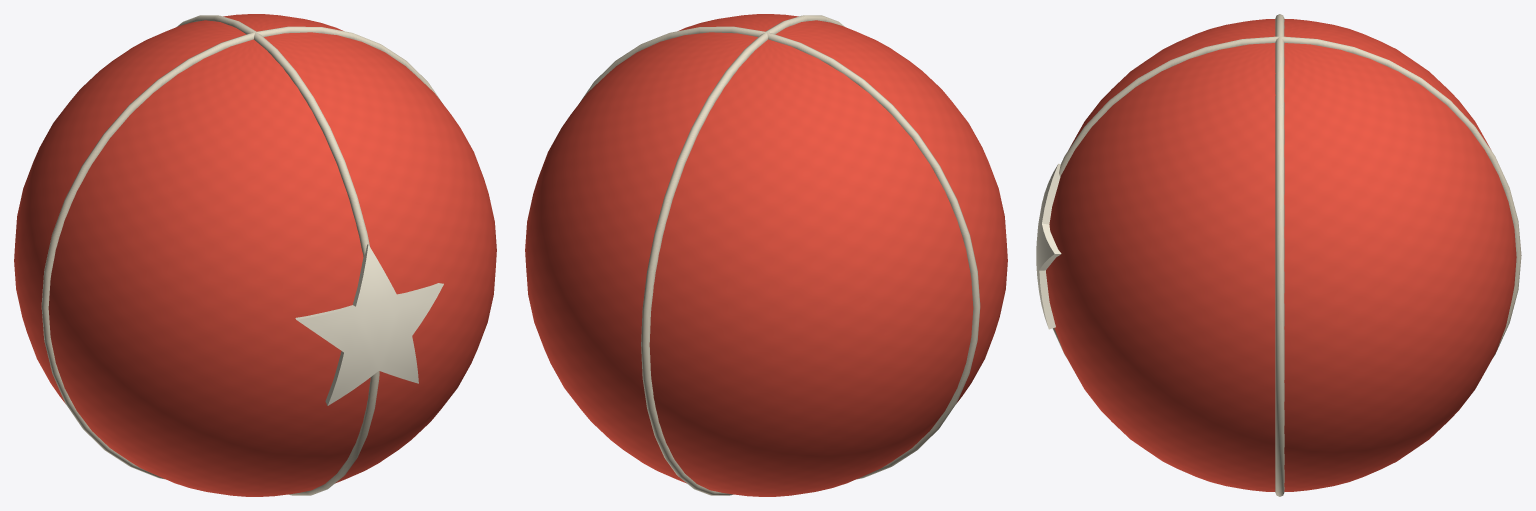
The model's file is BALL.glb.
3 views of the same model, side by side, from view 1: azimuth 30°, elevation 25°; view 2: azimuth 150°, elevation 25°; view 3: azimuth 270°, elevation 25° (orthographic). The views are drawn at different scales.
Parts seen in each view (by area): view 1: BALL; view 2: BALL; view 3: BALL.
Part boxes in pixels (bbox=[...]): BALL: bbox=[14, 14, 496, 496]; BALL: bbox=[525, 14, 1007, 496]; BALL: bbox=[1036, 14, 1521, 496].
Bounding box in the file's own units: 0.367 × 0.367 × 0.3684.
Materials: 3 (2 with a texture image).
